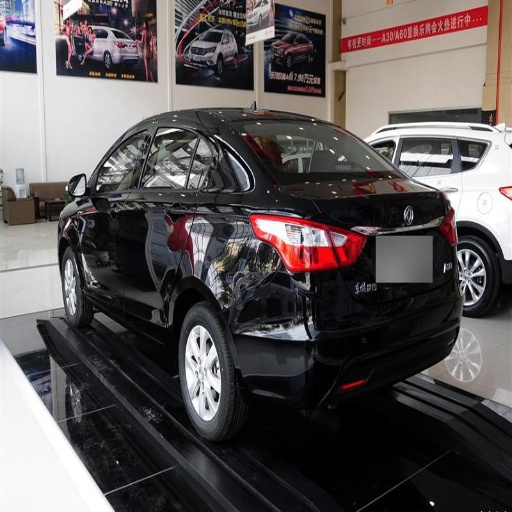back_bumper: (233, 274, 452, 410)
back_glass: (225, 119, 393, 182)
back_left_door: (121, 128, 195, 311)
tailgate: (294, 174, 441, 304)
trunk: (336, 223, 446, 323)
